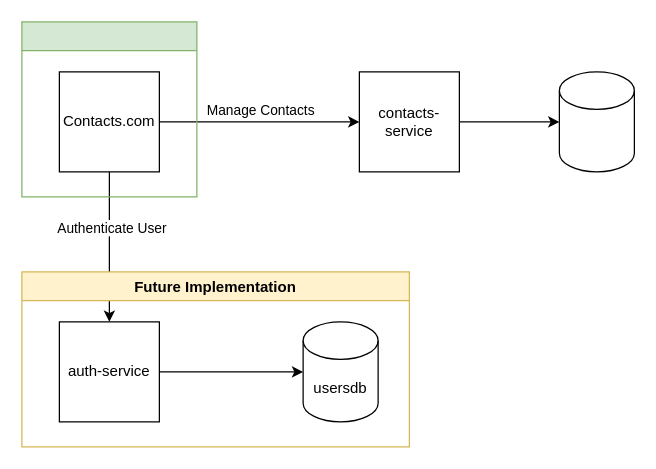
This 656x469 diagram has some shape labels left out. The shapes that lost their labels are listed below. From the top down, each one's box as (x1, y1, x2, y2) in pixels, then its label:
(21, 21, 197, 197): Front-End
(558, 71, 634, 172): contactsdb
